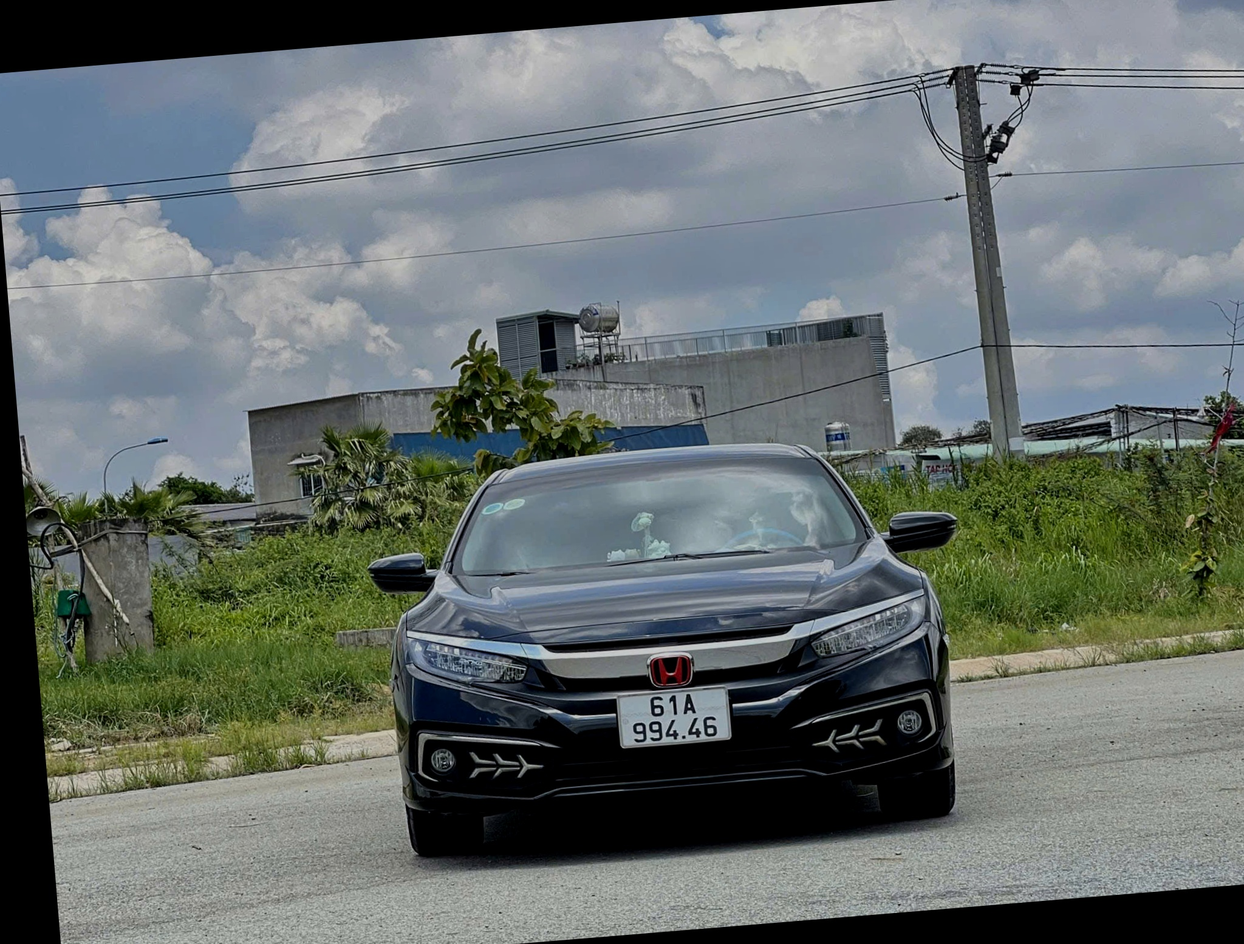Bien-so: (549, 702, 657, 776)
